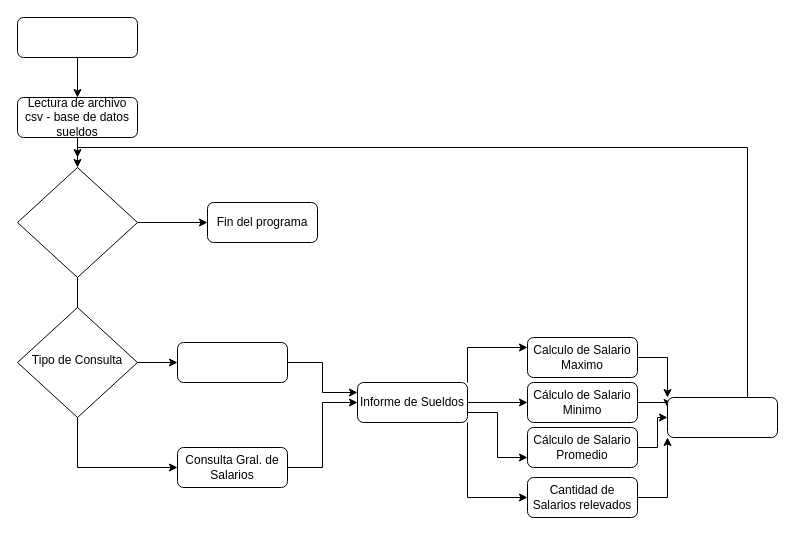
This 795x535 diagram has some shape labels left out. The shapes that lost their labels are listed below. From the top down, each one's centre as x and y in pixels, then its label:
At point 77,37: "Inicio - Mensaje de Bienvenida".
At point 77,222: "consulta base de datos sueldos".
At point 232,362: "Consulta por centros de costos".
At point 722,417: "Impresión por pantalla del informe".
